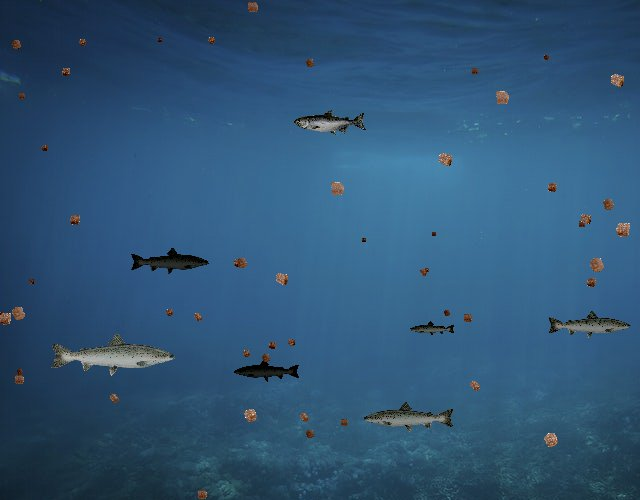Fish: (48, 331, 177, 377), (363, 401, 457, 435), (546, 309, 632, 340), (129, 246, 210, 275), (294, 110, 367, 136), (234, 359, 302, 383), (409, 320, 456, 337)
Pellet: (608, 215, 638, 244), (236, 402, 264, 430), (268, 266, 295, 293), (6, 35, 27, 56), (74, 34, 90, 50), (540, 51, 553, 64), (25, 275, 37, 287)
